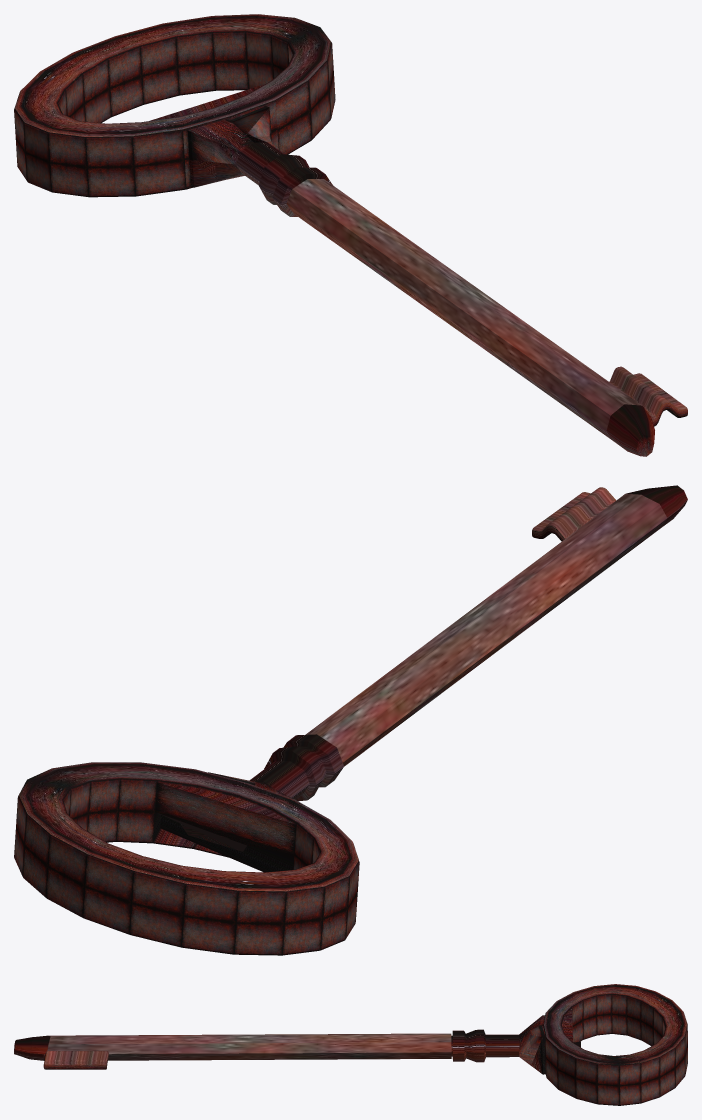
The model's file is kleiditelikomeefe.fbx.
3 views of the same model, one above another, from view 1: azimuth 30°, elevation 25°; view 2: azimuth 150°, elevation 25°; view 3: azimuth 270°, elevation 25° (orthographic). The views are drawn at different scales.
Visible parts, largest first — view 1: pPipe7; view 2: pPipe7; view 3: pPipe7.
Boxes of the visible parts, <box> form: pPipe7: <box>14,14,687,456</box>; pPipe7: <box>14,485,687,955</box>; pPipe7: <box>14,984,687,1105</box>.
Bounding box in the file's own units: 3.47 × 0.8972 × 10.32.
Materials: 1 (1 with a texture image).
